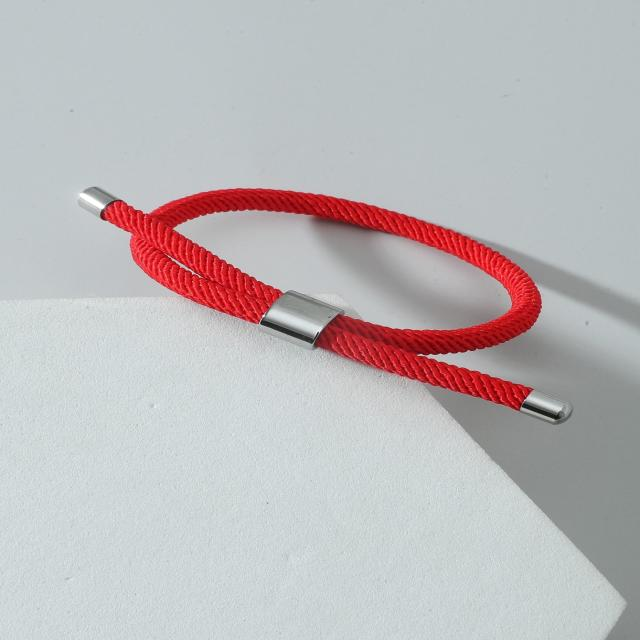bracelet: (3, 100, 640, 519)
